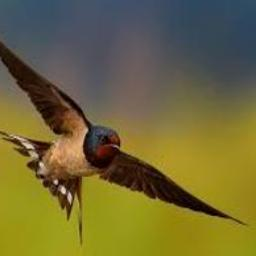Swallow: (0, 10, 248, 244)
